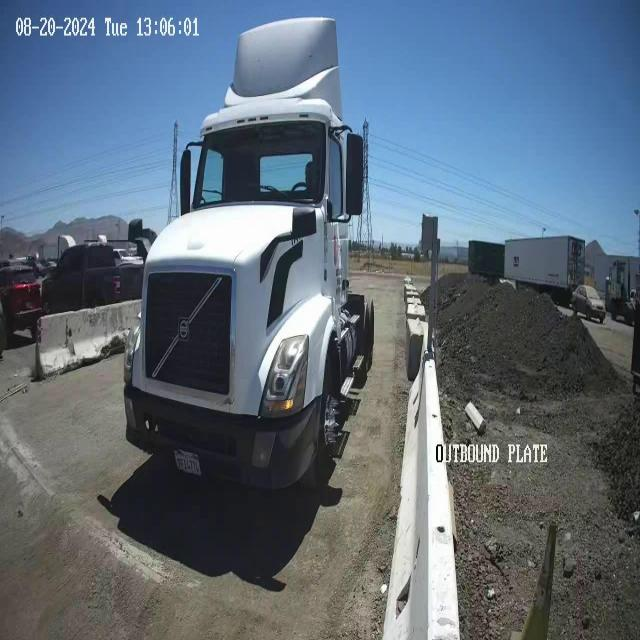BOBTAIL: (122, 15, 375, 494)
